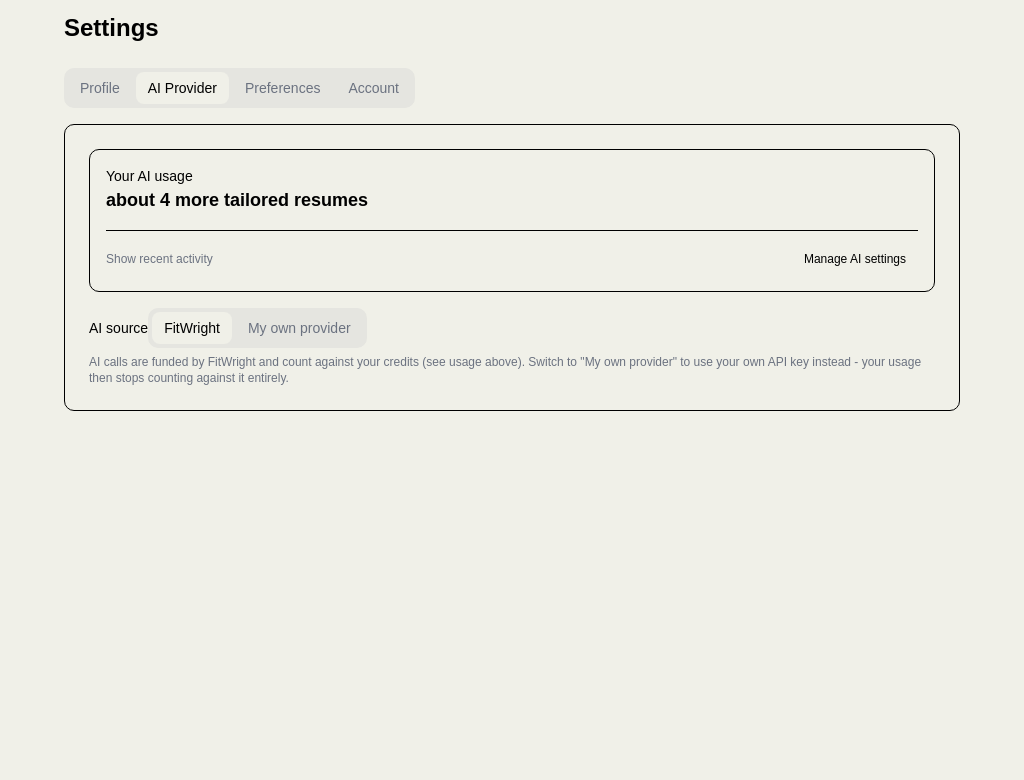
Test: Settings > AI Provider: FitWright vs own-provider switch › switching to "My own provider" reveals the form without deleting anything
Expected: the tab "FitWright" is shown, [152,312,232,344]
Click the tab "My own provider" at (299, 328), box [236,312,363,344]
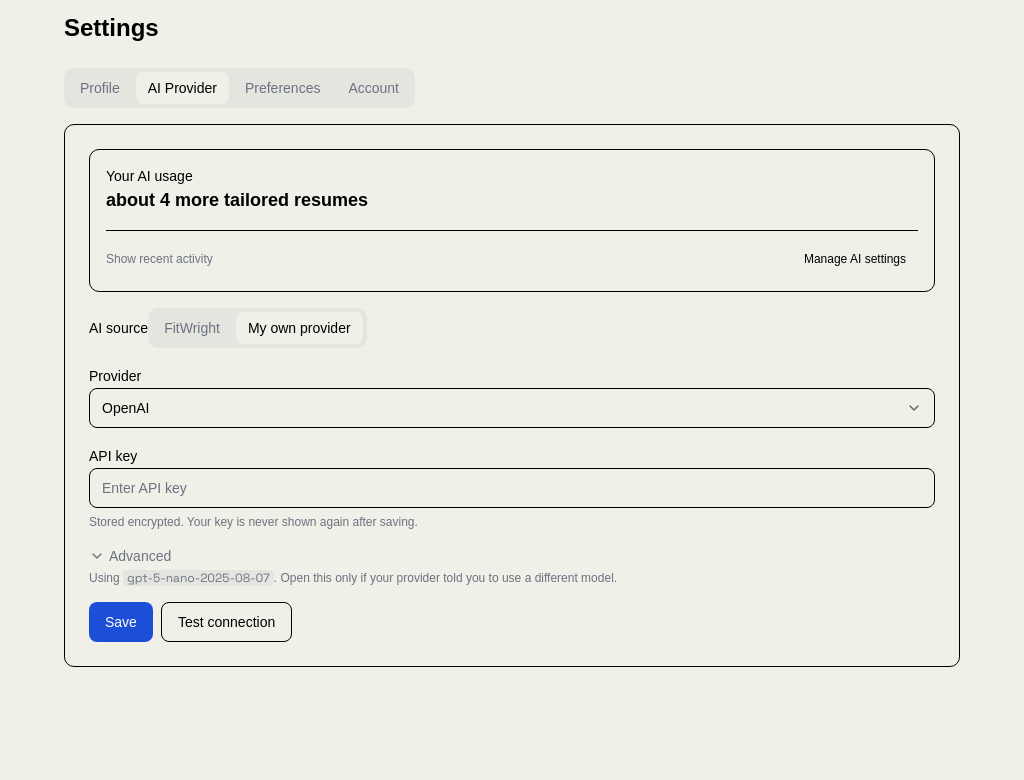
Result: the dropdown named "LLM provider" is shown at [89,388,935,428]
